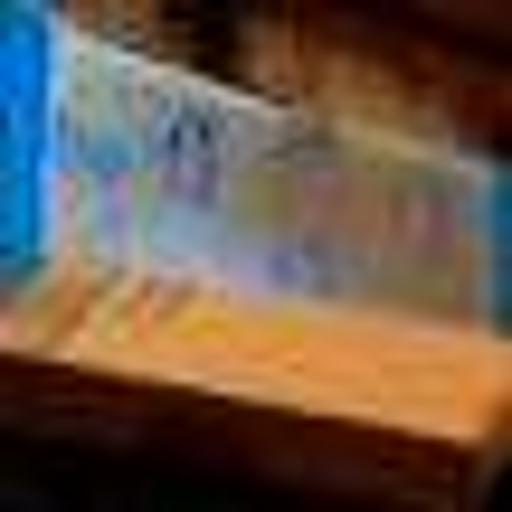Amazon: (0, 2, 512, 326)
Other: (0, 256, 511, 507)
